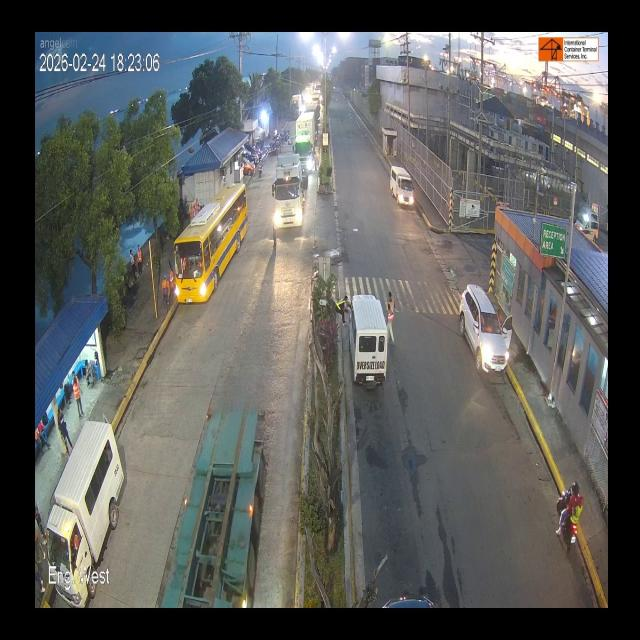bus: (173, 188, 249, 308)
car: (43, 434, 131, 570), (347, 295, 390, 405), (468, 281, 512, 384), (390, 160, 414, 211)
motorcycle: (550, 470, 592, 558)
truck: (157, 393, 274, 606), (271, 150, 315, 238), (291, 107, 319, 175), (289, 93, 302, 119)
